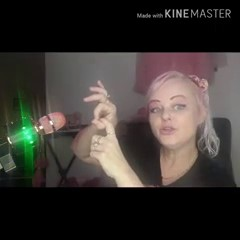Q: (77, 77, 125, 175)
